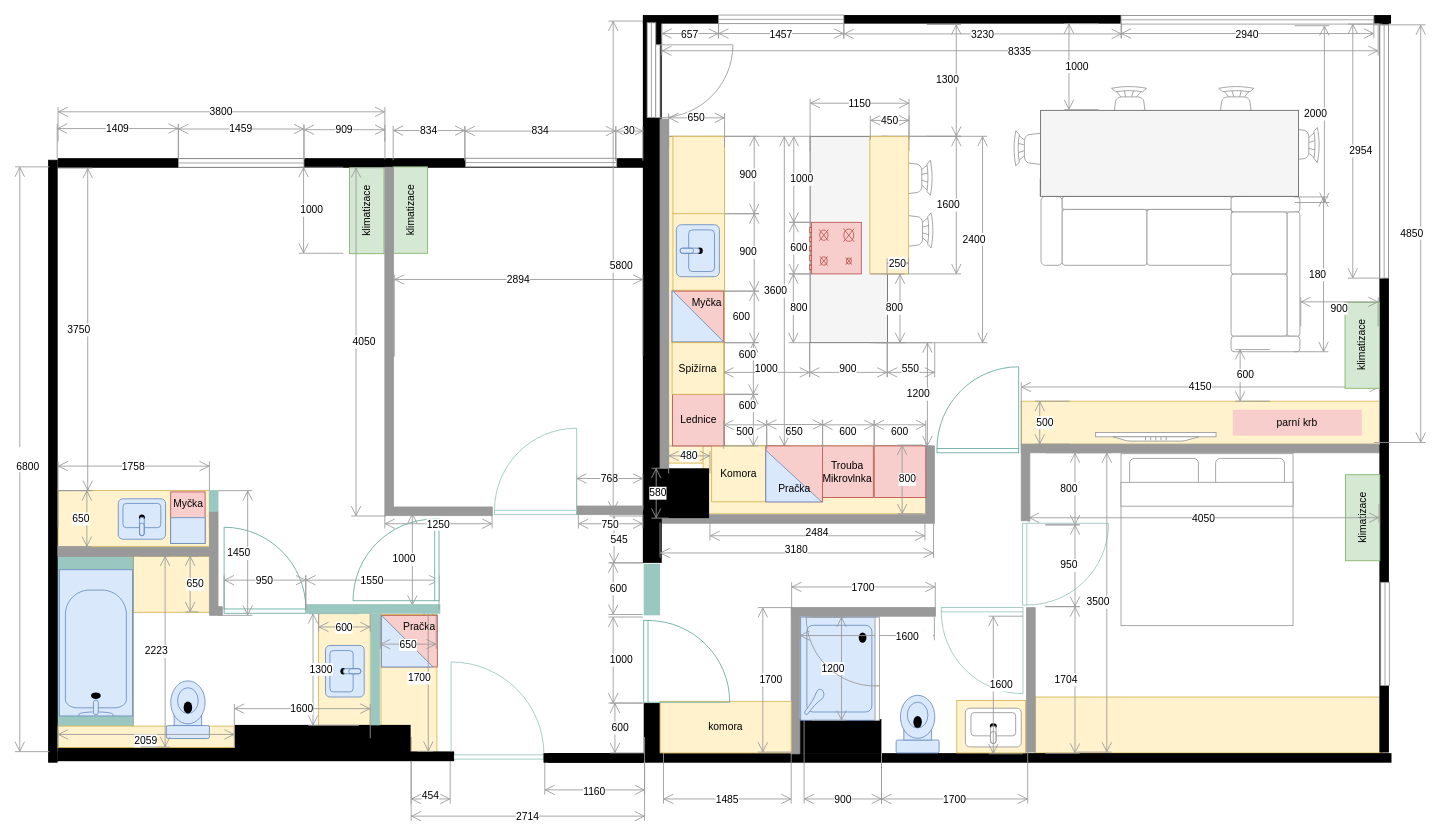
This 1441x838 diagram has some shape labels left out. The box of each missing label's shape, as (x1, y1, x2, y2) in pixels:
Mrazák: (873, 445, 926, 498)
skříň: (1034, 696, 1382, 753)
stůl: (1040, 109, 1299, 196)
Sušička: (765, 445, 823, 502)
